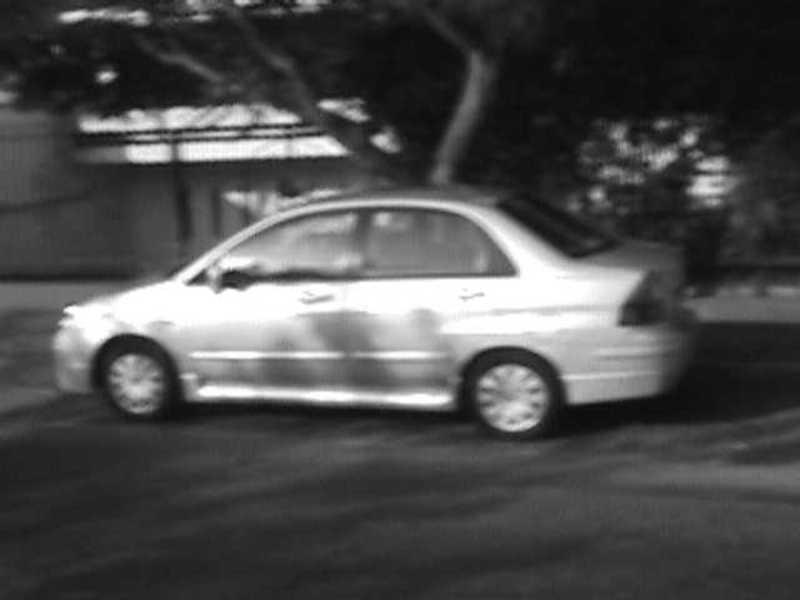car: (49, 187, 678, 451)
